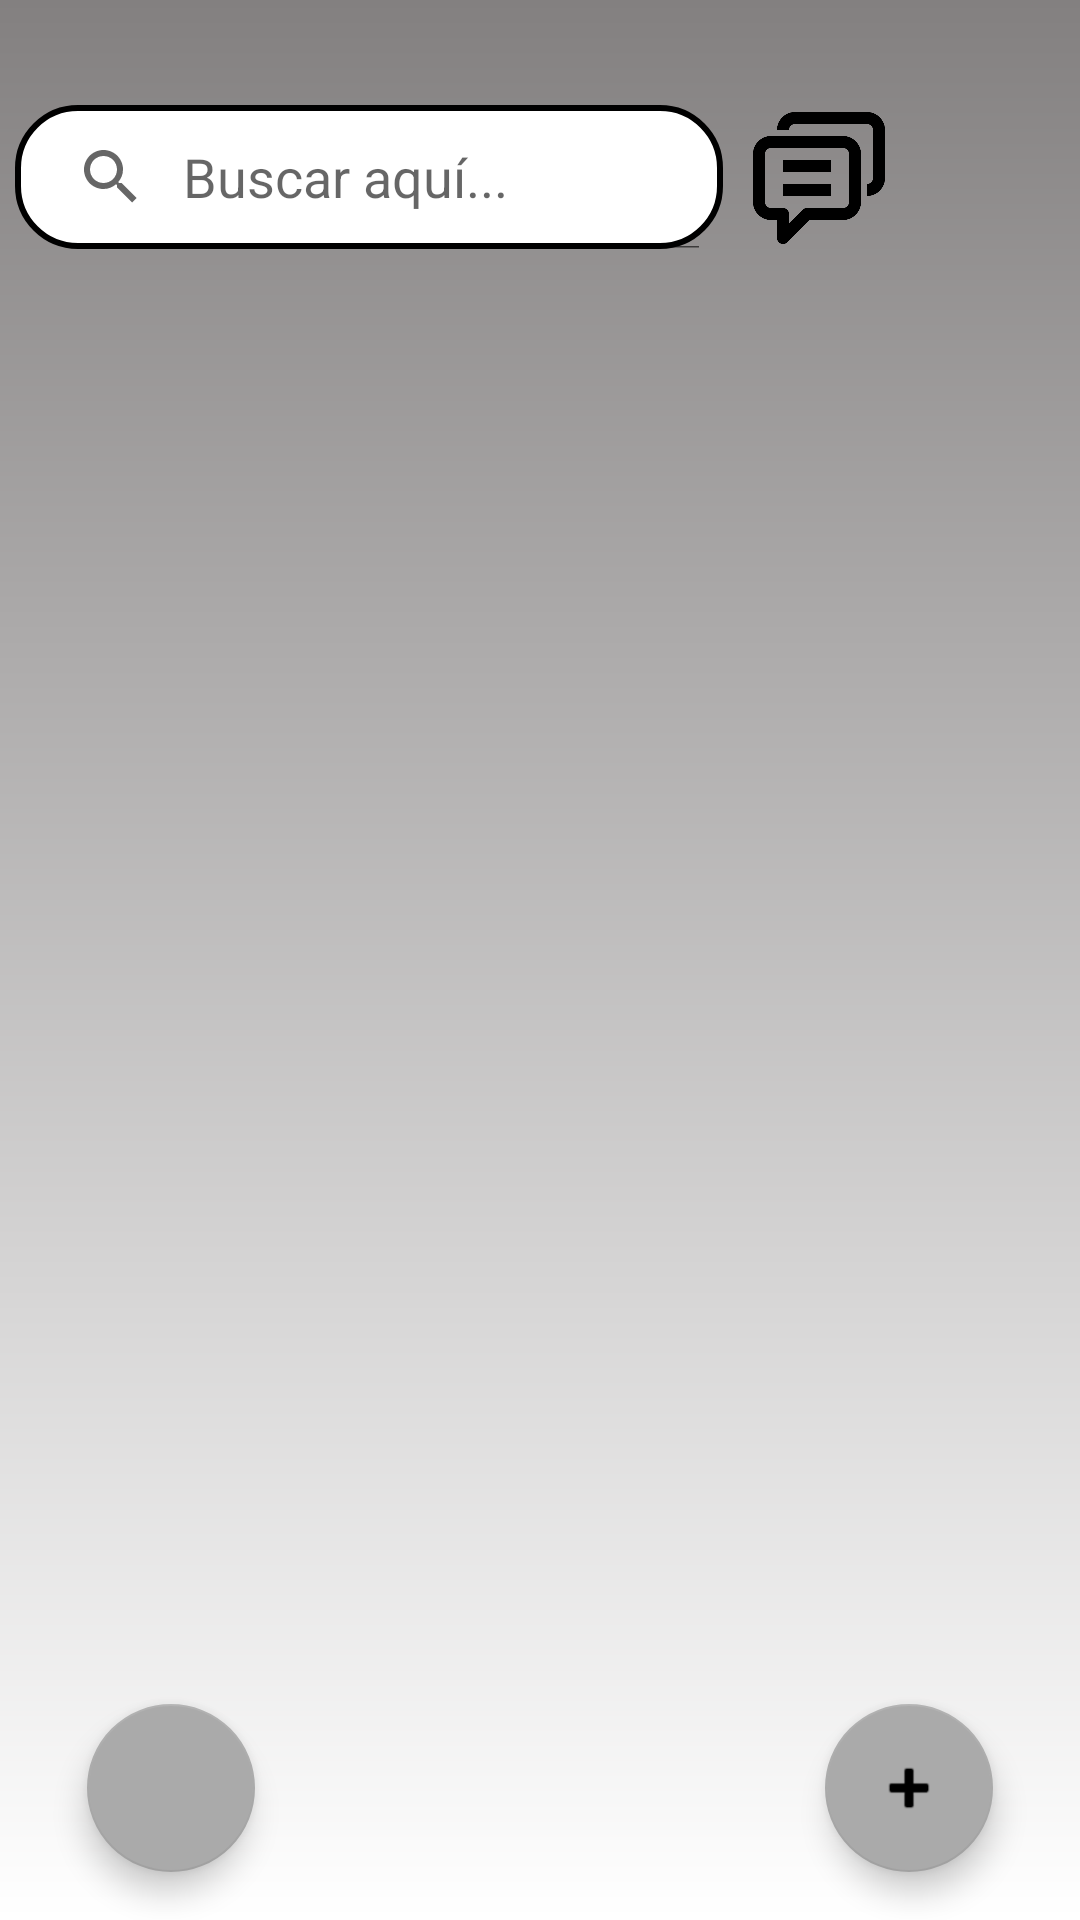

Icons on this 1080w x 1920h Android screen, each with the point to tap as (x,y):
Agregar: (909,1788)
Chats: (819,178)
